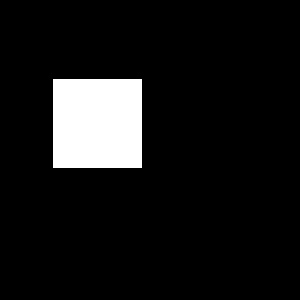circle: (53, 79, 142, 168)
